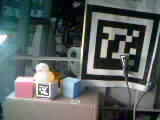duck: (29, 57, 61, 90)
